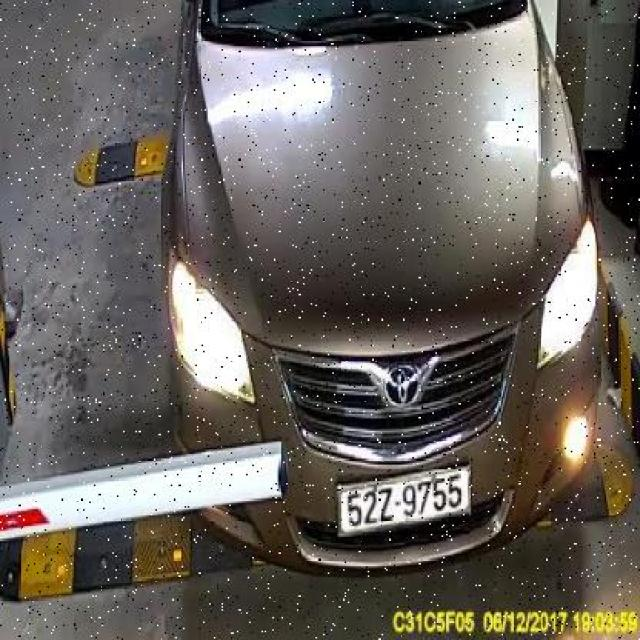number_plate: (337, 469, 469, 534)
